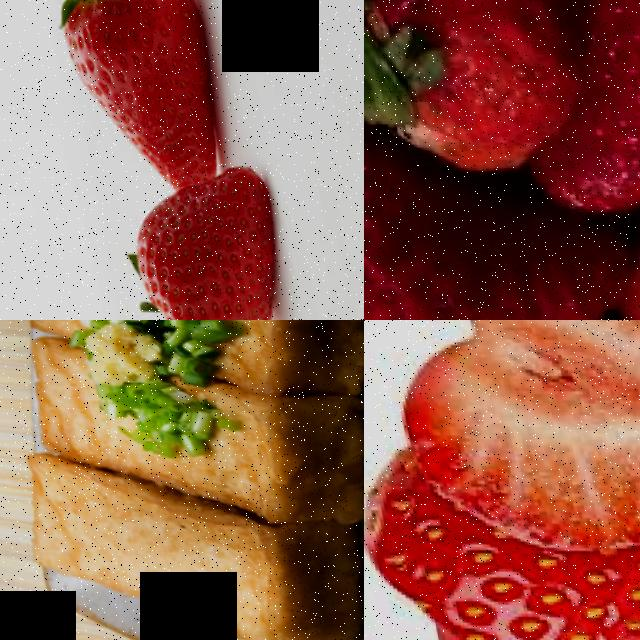strawberry: (390, 320, 640, 544), (364, 0, 580, 172), (364, 136, 557, 320), (29, 0, 227, 175), (99, 151, 298, 320), (386, 513, 640, 640)
tofu: (131, 491, 364, 640), (196, 370, 364, 522), (202, 320, 364, 389)
